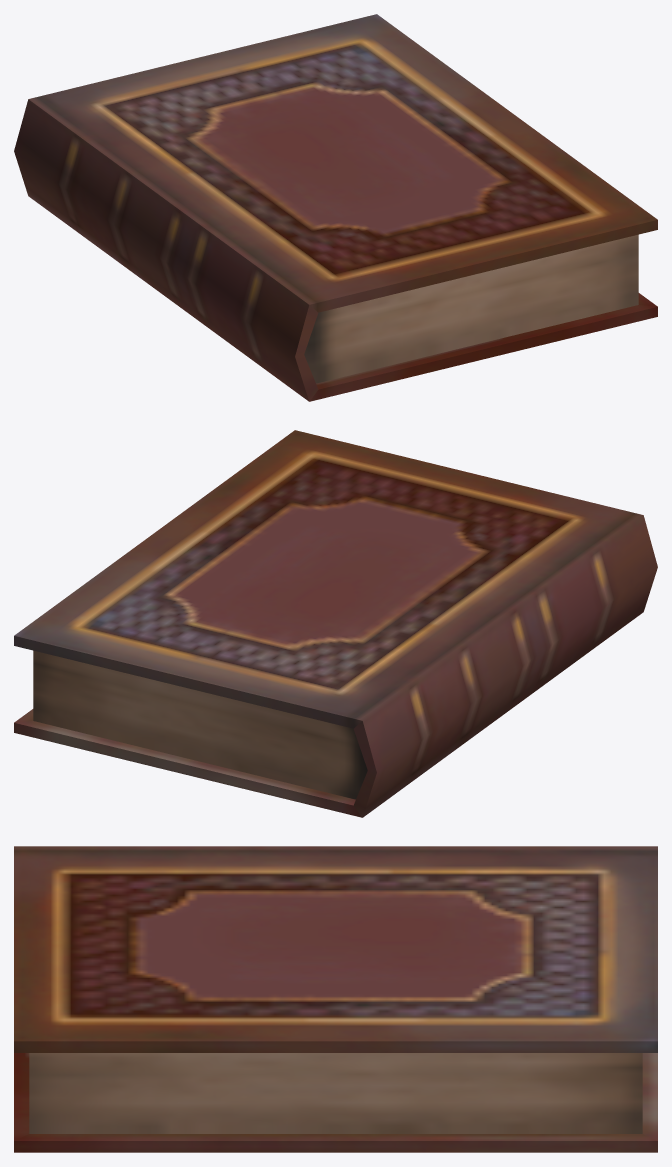
Rendered from book_001.fbx.
3 renders of one model, top to bottom at view 1: azimuth 30°, elevation 25°; view 2: azimuth 150°, elevation 25°; view 3: azimuth 270°, elevation 25°, orthographic. The views are drawn at different scales.
Parts seen in each view (by area): view 1: book; view 2: book; view 3: book.
Part boxes in pixels (left/top/right/bottom): book: left=14, top=14, right=657, bottom=401; book: left=14, top=430, right=657, bottom=817; book: left=14, top=846, right=657, bottom=1152.
Size of the model in its own units: 17.59 by 4.49 by 23.59.
